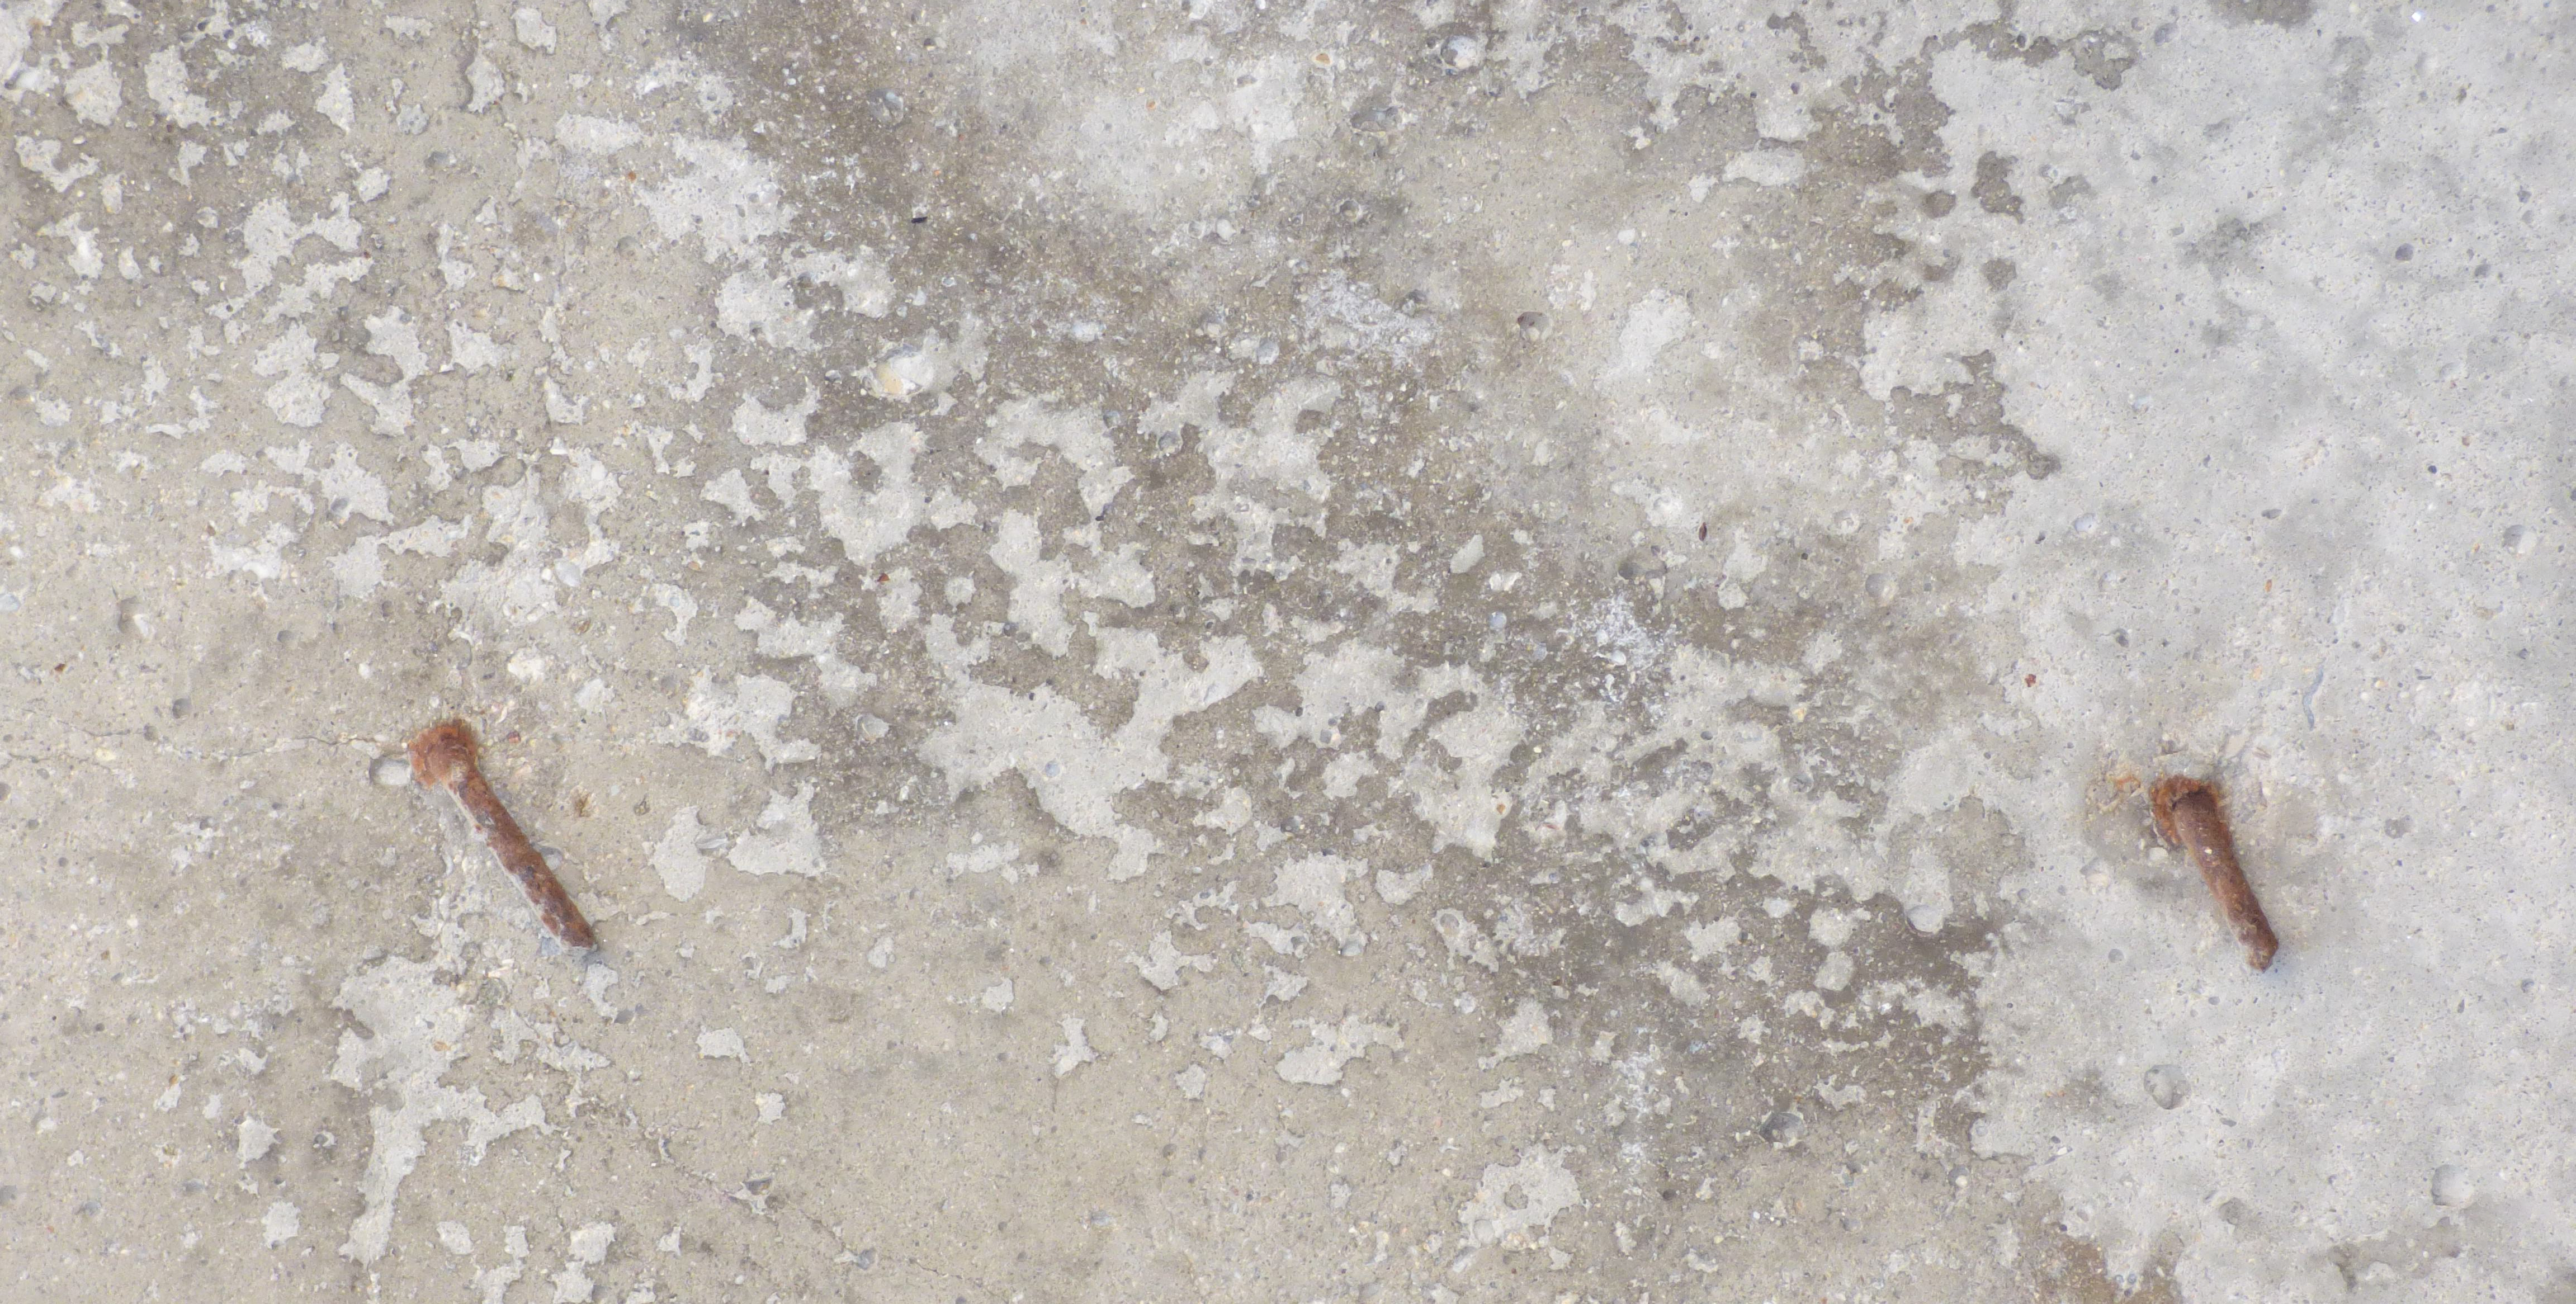Exposed reinforcement: (426, 740, 599, 956), (2172, 788, 2278, 973)
